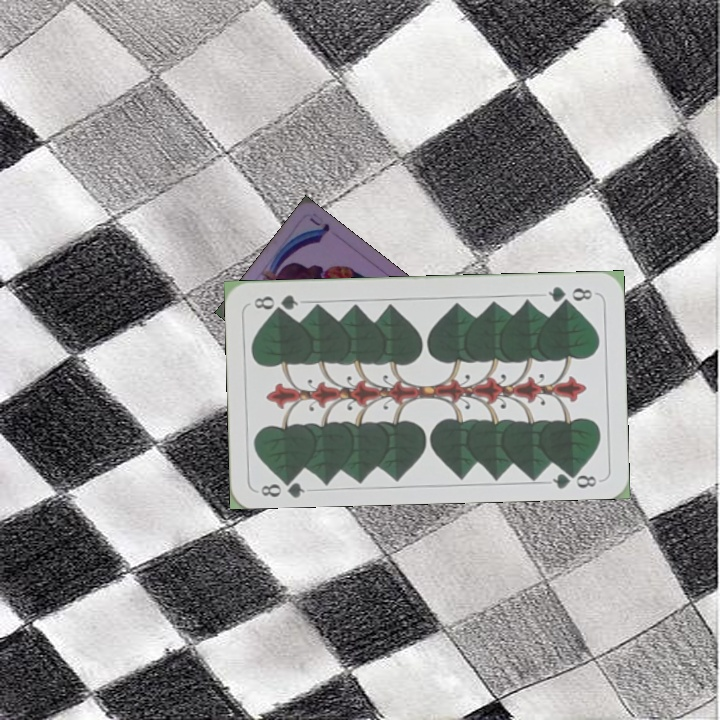G8: (257, 472, 307, 500), (544, 282, 595, 306)
